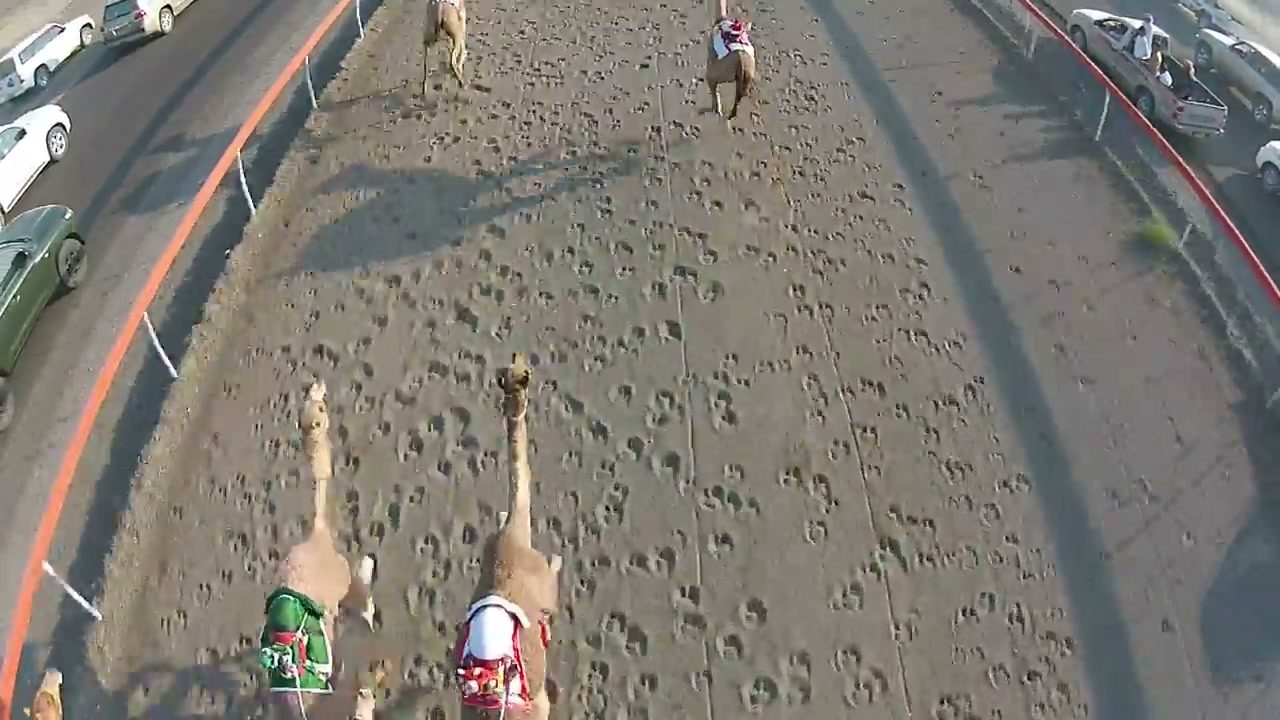animal_foot_print: (102, 0, 1088, 719), (175, 88, 700, 716), (676, 209, 889, 715), (513, 169, 702, 718), (829, 237, 1030, 715), (768, 53, 982, 450), (531, 365, 695, 716), (697, 561, 887, 714), (570, 601, 702, 716), (569, 641, 670, 717), (550, 480, 630, 549), (830, 643, 889, 708), (778, 466, 838, 514), (572, 647, 613, 717), (567, 555, 613, 606), (864, 531, 911, 578), (600, 612, 648, 657), (672, 585, 708, 643), (402, 652, 452, 691), (649, 449, 691, 494), (779, 651, 813, 706), (699, 485, 760, 515), (844, 670, 890, 708), (623, 546, 677, 578), (592, 482, 630, 526), (645, 388, 685, 429), (739, 675, 781, 713), (405, 578, 438, 619), (410, 529, 446, 564), (708, 389, 738, 429), (829, 579, 866, 611), (892, 609, 923, 645), (626, 672, 660, 703), (713, 629, 746, 660), (704, 529, 738, 559), (738, 598, 767, 628), (803, 518, 829, 544), (606, 383, 635, 405), (722, 462, 745, 485)
